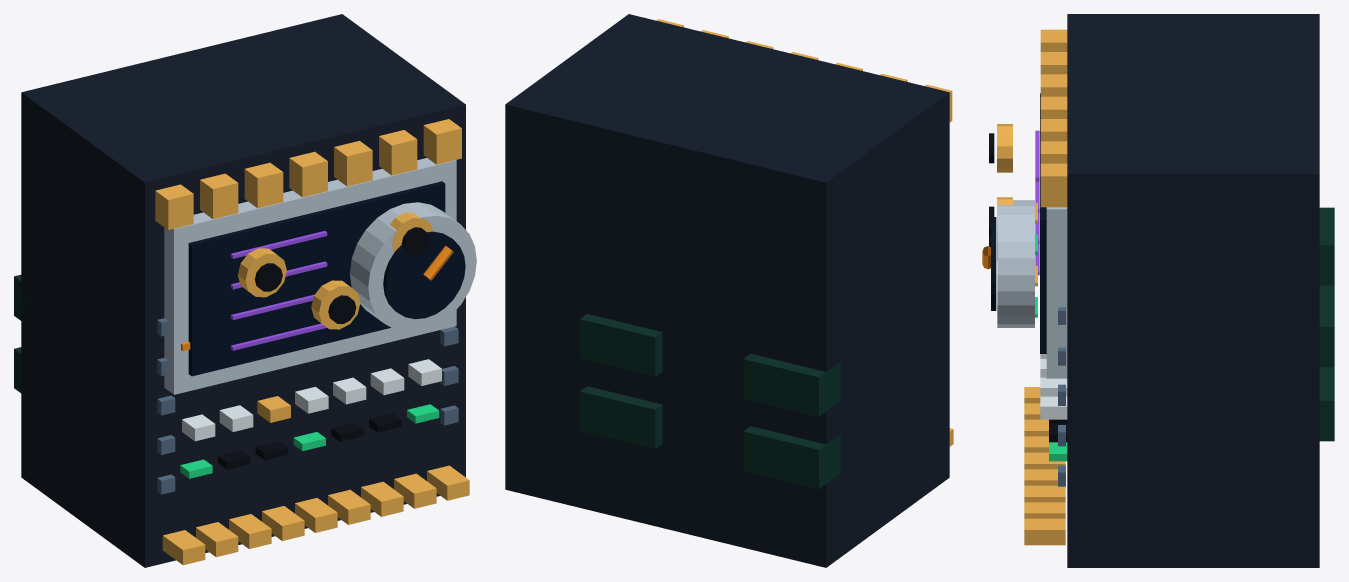
Rendered from 49_L91_PhaseErrorOscilloscope.fbx.
3 renders of one model, left to right at view 1: azimuth 30°, elevation 25°; view 2: azimuth 150°, elevation 25°; view 3: azimuth 270°, elevation 25°, orthographic. The views are drawn at different scales.
Visible parts, largest first — view 1: L91_PhaseErrorOscilloscope, L91_PhaseErrorOscilloscope_Part_0013, L91_PhaseErrorOscilloscope_Part_0015, L91_PhaseErrorOscilloscope_Part_0017, L91_PhaseErrorOscilloscope_Part_0016, L91_PhaseErrorOscilloscope_Part_0014, L91_PhaseErrorOscilloscope_Part_0018; view 2: L91_PhaseErrorOscilloscope; view 3: L91_PhaseErrorOscilloscope, L91_PhaseErrorOscilloscope_Part_0013.
Part boxes in pixels (<box>): L91_PhaseErrorOscilloscope: <box>14,14,476,567</box>; L91_PhaseErrorOscilloscope_Part_0013: <box>238,248,286,297</box>; L91_PhaseErrorOscilloscope_Part_0015: <box>311,280,360,329</box>; L91_PhaseErrorOscilloscope_Part_0017: <box>390,212,432,251</box>; L91_PhaseErrorOscilloscope_Part_0016: <box>328,295,356,323</box>; L91_PhaseErrorOscilloscope_Part_0014: <box>254,263,282,291</box>; L91_PhaseErrorOscilloscope_Part_0018: <box>401,227,429,255</box>; L91_PhaseErrorOscilloscope: <box>505,14,953,567</box>; L91_PhaseErrorOscilloscope: <box>991,14,1334,567</box>; L91_PhaseErrorOscilloscope_Part_0013: <box>997,124,1012,172</box>.
Bounding box in the file's own units: 100 × 115 × 93.43.
